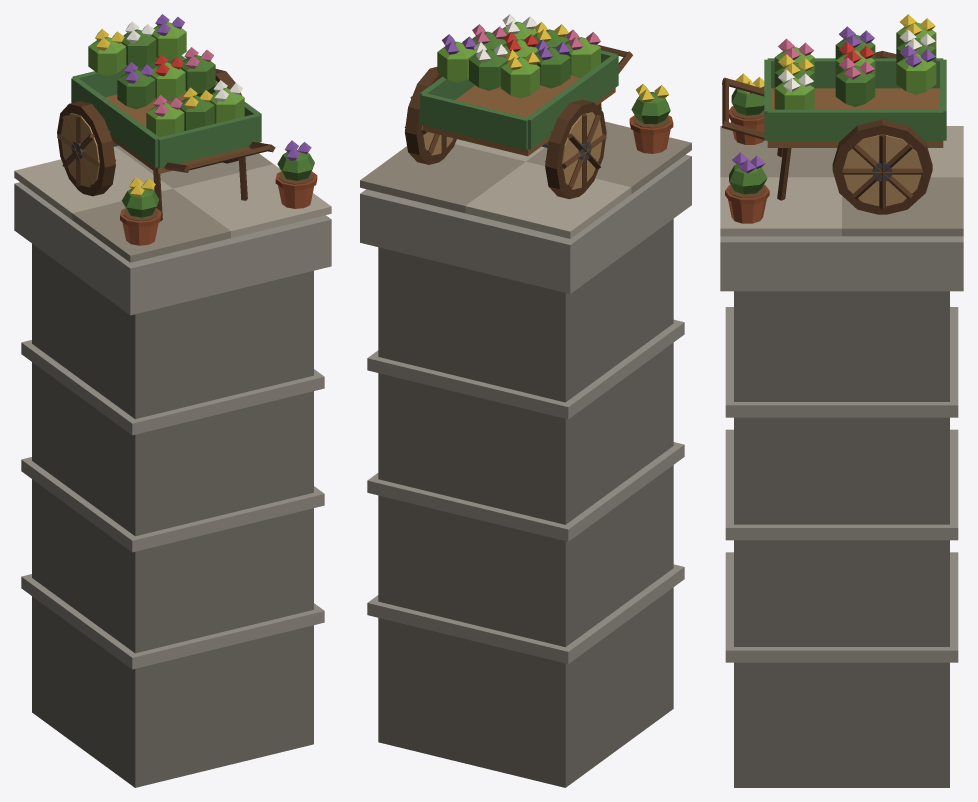
File: decor_flower_cart.glb
3 views of the same model, side by side, from view 1: azimuth 30°, elevation 25°; view 2: azimuth 150°, elevation 25°; view 3: azimuth 270°, elevation 25° (orthographic). The views are drawn at different scales.
Visible parts, largest first — view 1: decor_flower_cart; view 2: decor_flower_cart; view 3: decor_flower_cart.
Boxes of the visible parts, <box> form: decor_flower_cart: <box>14,14,331,787</box>; decor_flower_cart: <box>360,14,691,787</box>; decor_flower_cart: <box>720,14,963,787</box>.
Size of the model in its own units: 1.8 by 5.79 by 1.8.
